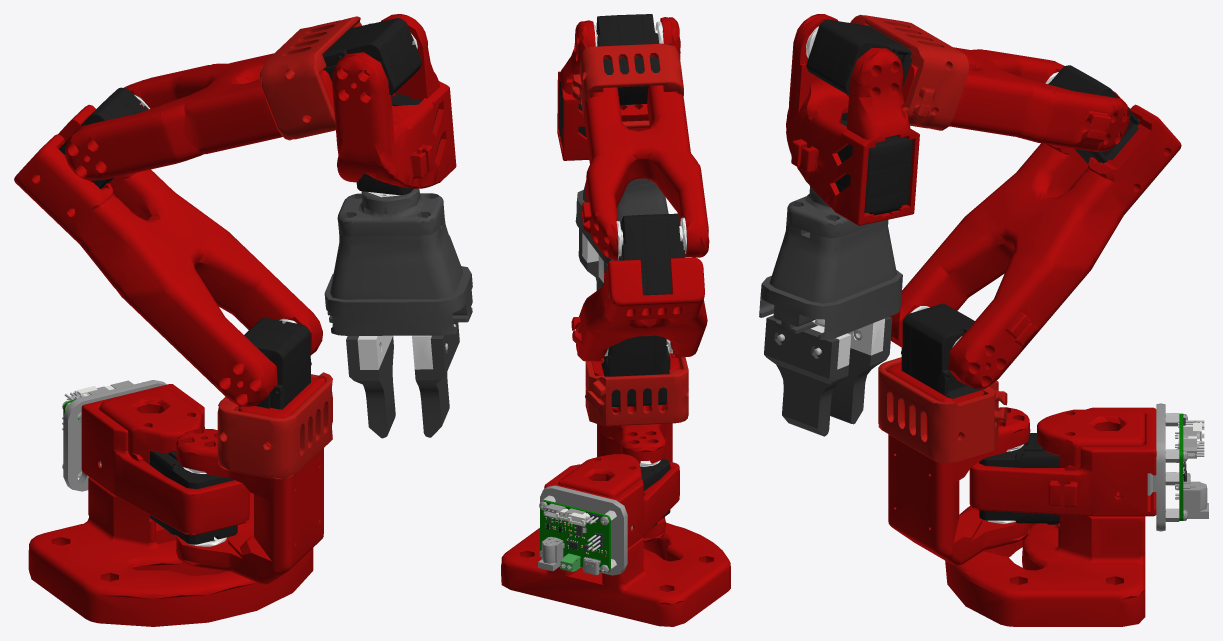
3 renders of one model, left to right at view 1: azimuth 30°, elevation 25°; view 2: azimuth 150°, elevation 25°; view 3: azimuth 270°, elevation 25°, orthographic. The views are drawn at different scales.
Parts seen in each view (by area): view 1: Parte6, Base_SO101 v12 copy, Parte8, Parte16, Rotation_Pitch_SO101, Base_08p, gripper_base_plate, Parte12, Parte14, gripper_rail_base, blocco_giunto_polso, dito1 (+12 smaller); view 2: Base_SO101 v12 copy, Parte8, Parte6, Parte12, Parte14, Rotation_Pitch_SO101, Parte16, Base_08p, WaveShare_Mounting_Plate_SO101, Board, ZK_122.002, ZK_122.003 (+12 smaller); view 3: Parte6, Base_SO101 v12 copy, Parte16, Parte8, Rotation_Pitch_SO101, Base_08p, Parte12, gripper_base_plate, dito1.001, Parte14, gripper_rail_base, dito1 (+16 smaller).
Boxes of the visible parts, x1,y1,x2,y2 form: Parte6: [14, 104, 322, 406]; Base_SO101 v12 copy: [28, 386, 313, 626]; Parte8: [65, 53, 334, 180]; Parte16: [332, 14, 456, 188]; Rotation_Pitch_SO101: [176, 377, 325, 584]; Base_08p: [81, 384, 249, 535]; gripper_base_plate: [330, 216, 463, 299]; Parte12: [217, 372, 332, 479]; Parte14: [260, 16, 361, 140]; gripper_rail_base: [324, 266, 472, 335]; blocco_giunto_polso: [337, 188, 444, 236]; dito1: [346, 336, 395, 438]; Base_SO101 v12 copy: [501, 454, 730, 626]; Parte8: [581, 85, 709, 260]; Parte6: [571, 257, 707, 361]; Parte12: [585, 357, 688, 426]; Parte14: [572, 43, 683, 128]; Rotation_Pitch_SO101: [591, 353, 680, 542]; Parte16: [557, 17, 680, 160]; Base_08p: [544, 461, 679, 547]; WaveShare_Mounting_Plate_SO101: [540, 485, 627, 575]; Board: [540, 500, 610, 572]; ZK_122.002: [642, 214, 672, 295]; ZK_122.003: [616, 14, 648, 105]; Parte6: [890, 91, 1181, 388]; Base_SO101 v12 copy: [945, 409, 1145, 626]; Parte16: [786, 14, 919, 225]; Parte8: [901, 47, 1129, 151]; Rotation_Pitch_SO101: [887, 363, 1030, 565]; Base_08p: [969, 407, 1156, 516]; Parte12: [878, 357, 1007, 463]; gripper_base_plate: [769, 220, 896, 303]; dito1.001: [764, 315, 848, 436]; Parte14: [846, 14, 969, 130]; gripper_rail_base: [759, 270, 902, 339]; dito1: [830, 316, 892, 424].
Bounding box in the file's own units: 0.1523 × 0.2798 × 0.193.
